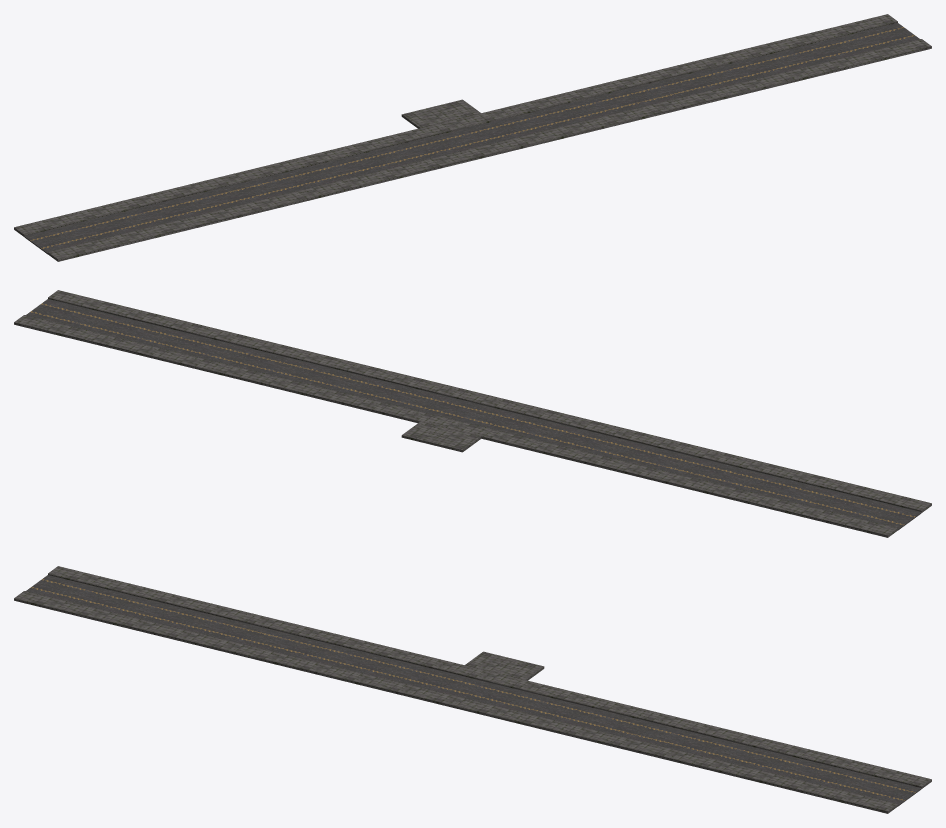
Rendered from Jalan.fbx.
3 renders of one model, top to bottom at view 1: azimuth 30°, elevation 25°; view 2: azimuth 150°, elevation 25°; view 3: azimuth 330°, elevation 25°, orthographic.
Parts seen in each view (by area): view 1: Aspal, Aspal.002, Aspal.001, Aspal.003; view 2: Aspal, Aspal.001, Aspal.002, Aspal.003; view 3: Aspal, Aspal.002, Aspal.001, Aspal.003.
Part boxes in pixels (box(x1,y1,x2,y2)): Aspal: box(24, 23, 919, 254); Aspal.002: box(48, 39, 931, 261); Aspal.001: box(14, 14, 897, 236); Aspal.003: box(401, 99, 480, 128); Aspal: box(26, 299, 921, 530); Aspal.001: box(14, 315, 897, 537); Aspal.002: box(48, 290, 931, 512); Aspal.003: box(401, 421, 481, 452); Aspal: box(26, 575, 921, 806); Aspal.002: box(14, 591, 897, 813); Aspal.001: box(48, 566, 931, 788); Aspal.003: box(465, 651, 544, 680).
Bounding box in the file's own units: 5764 × 15.83 × 718.
